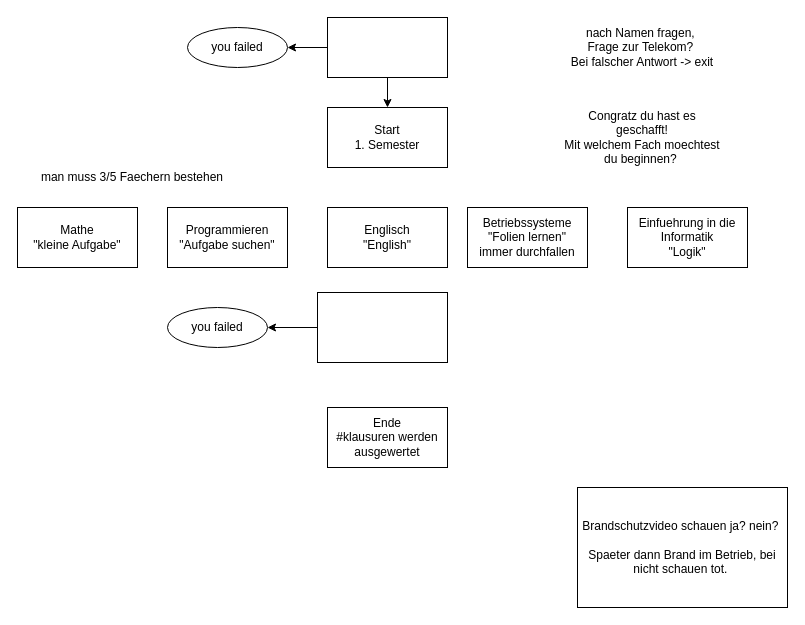
Some shapes in this 805 by 625 pixel diagram are drawn without their labels. Each missing label, with the box of its shape:
Auswahlverfahren: (326, 16, 448, 78)
Mail vom Chef "ueberweise 10k an Partner" -> ist natuerlich phishing: (316, 292, 448, 362)
